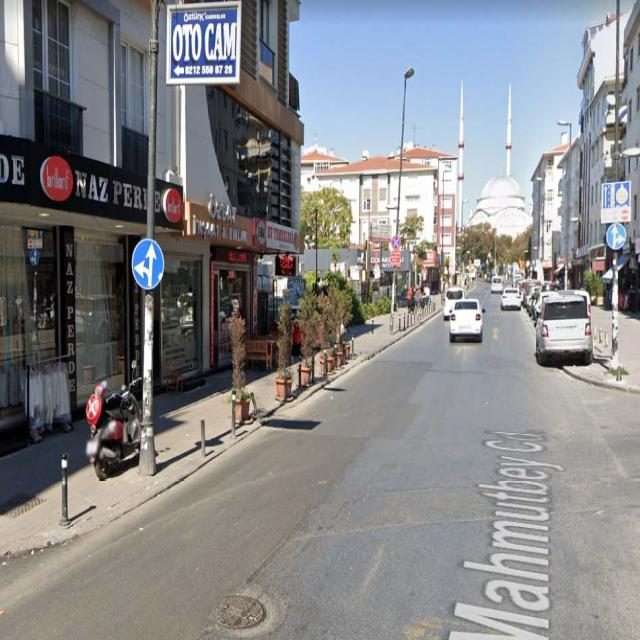ilerisag: (606, 222, 627, 250)
ilerisol: (131, 240, 164, 290)
